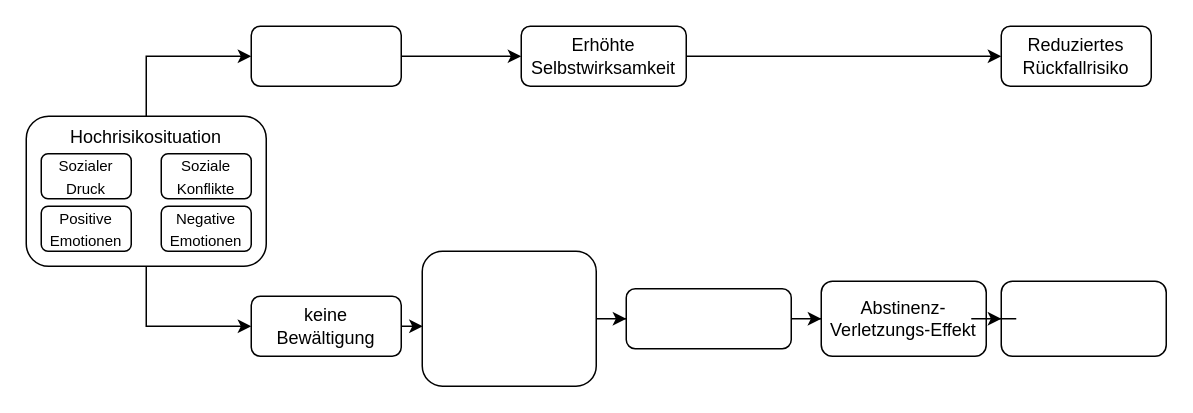
Some shapes in this 1193 by 413 pixel diagram are drawn without their labels. The shapes that lost their labels are listed below. From the top down, each one's centre as x and y in pixels, then its label:
At (325,55): "Bewältigung".
At (508,318): "Reduzierte Selbstwirksamkeits- erwartung und positive Erwartung an Suchtmittel".
At (708,318): "Ausrutscher".
At (1083,318): "erhöhtes Rückfallrisiko".
